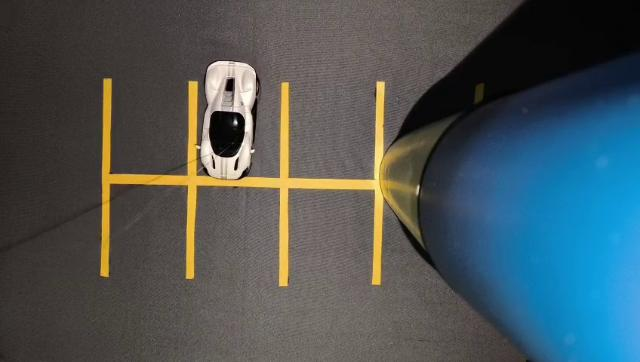toy_car: (178, 49, 270, 197)
